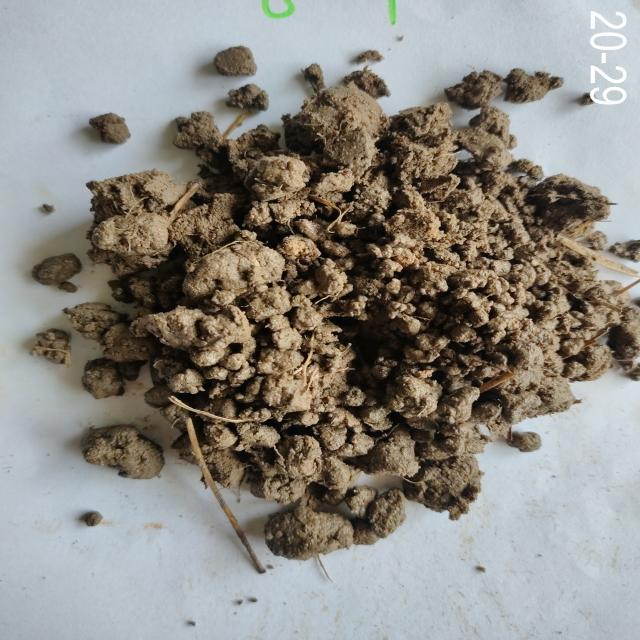soil: (203, 186, 504, 424)
